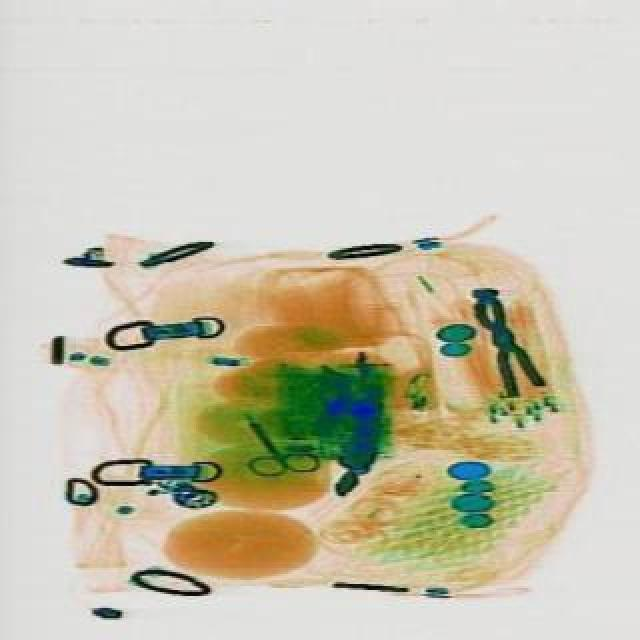pliers: (222, 402, 320, 498)
